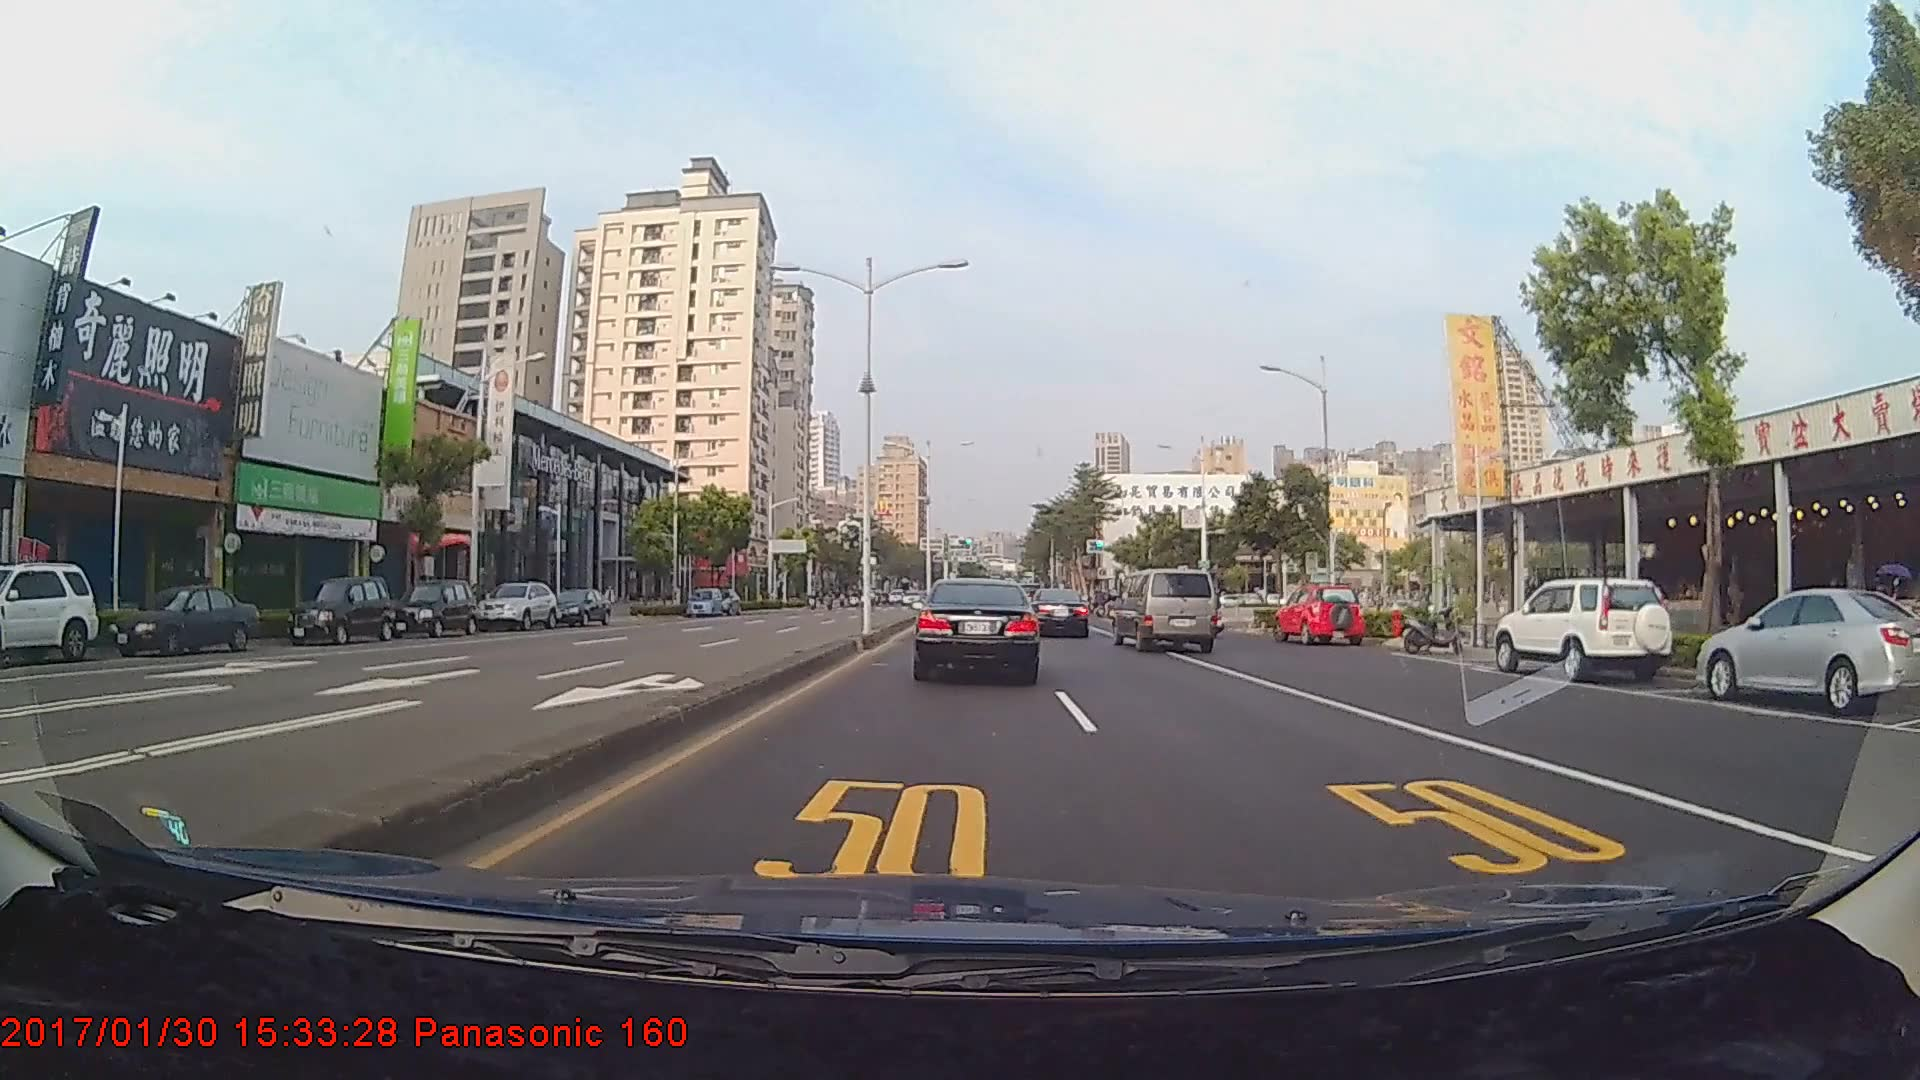vehicle: (1695, 585, 1913, 713), (1495, 574, 1669, 679), (914, 574, 1040, 682), (104, 585, 262, 655), (0, 560, 98, 666), (1112, 567, 1218, 653), (284, 576, 396, 645), (1275, 583, 1364, 646), (386, 580, 476, 640), (471, 580, 558, 633), (1029, 587, 1089, 640), (547, 589, 613, 626), (684, 585, 724, 615)
